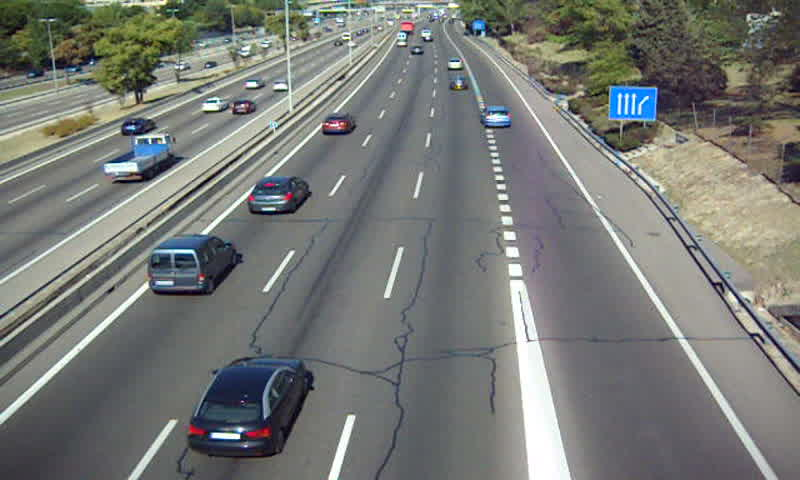car: (187, 356, 309, 458), (247, 177, 309, 213), (321, 114, 356, 135), (482, 104, 513, 127), (447, 76, 468, 91), (446, 58, 464, 69)
van: (146, 236, 236, 293)
